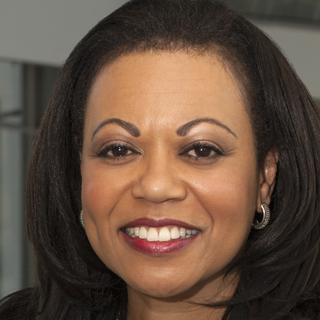eye: (92, 138, 143, 168), (175, 138, 227, 166)
